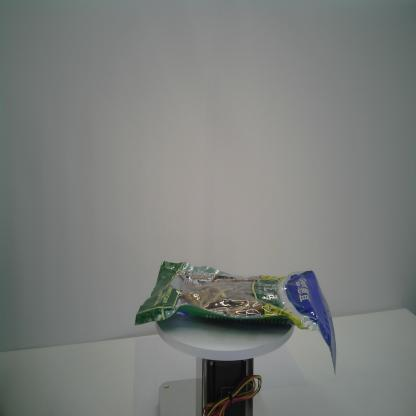Dried Food: (134, 260, 337, 376)
